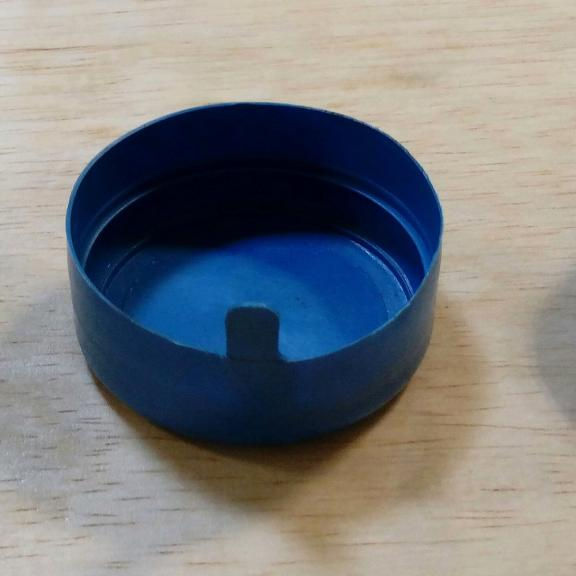Plastik: (63, 102, 444, 449)
